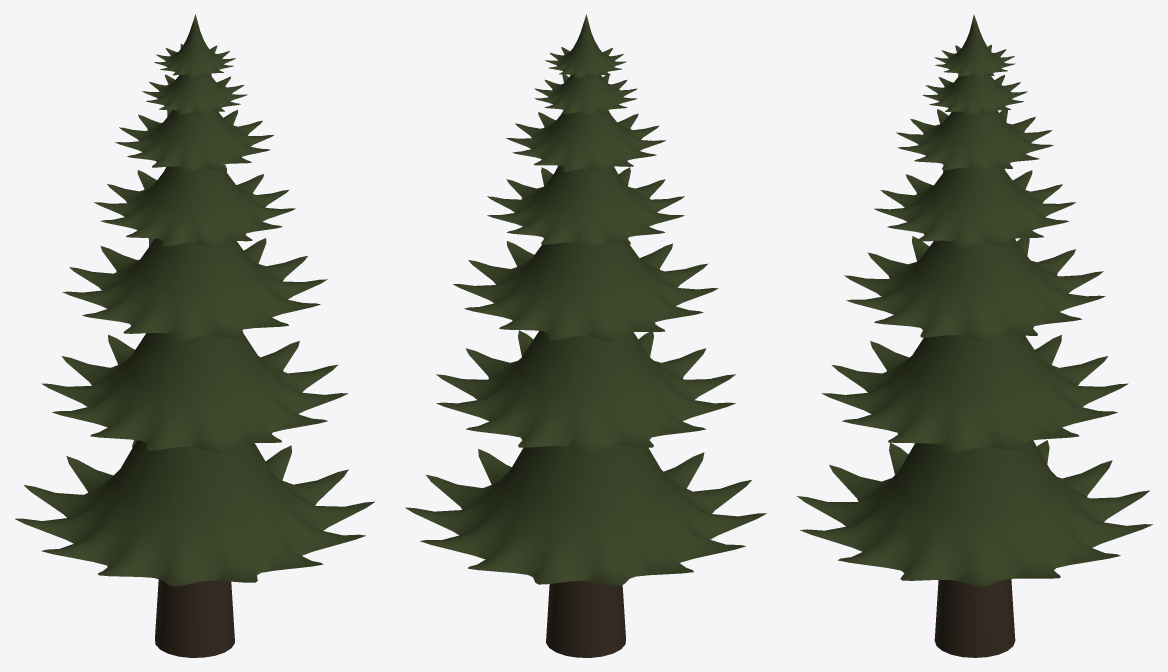
The model's file is tree.fbx.
3 renders of one model, left to right at view 1: azimuth 30°, elevation 25°; view 2: azimuth 150°, elevation 25°; view 3: azimuth 270°, elevation 25°, orthographic.
Visible parts, largest first — view 1: leaves, trunk; view 2: leaves, trunk; view 3: leaves, trunk.
Boxes of the visible parts, box(x1,y1,x2,y2) form: leaves: box(15, 14, 374, 586); trunk: box(155, 579, 234, 657); leaves: box(405, 14, 766, 585); trunk: box(546, 581, 625, 657); leaves: box(797, 15, 1152, 586); trunk: box(934, 579, 1015, 657).
Bounding box in the file's own units: 24.67 × 46.99 × 24.26.
